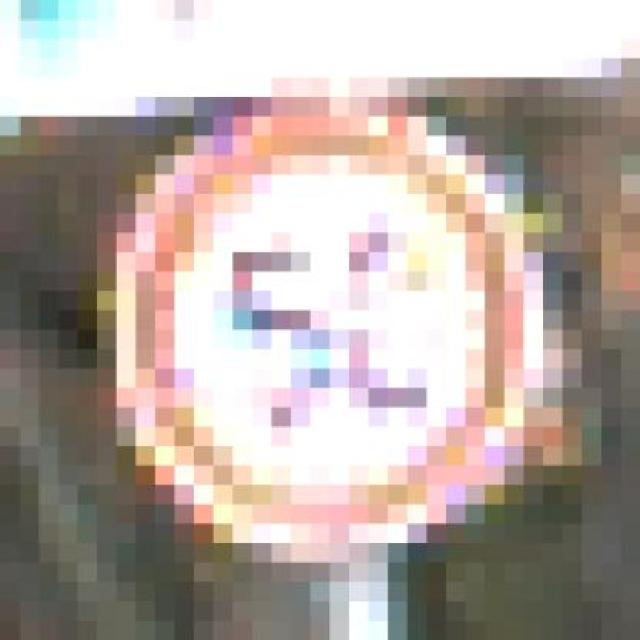50 mph speed limit: (77, 116, 601, 582)
